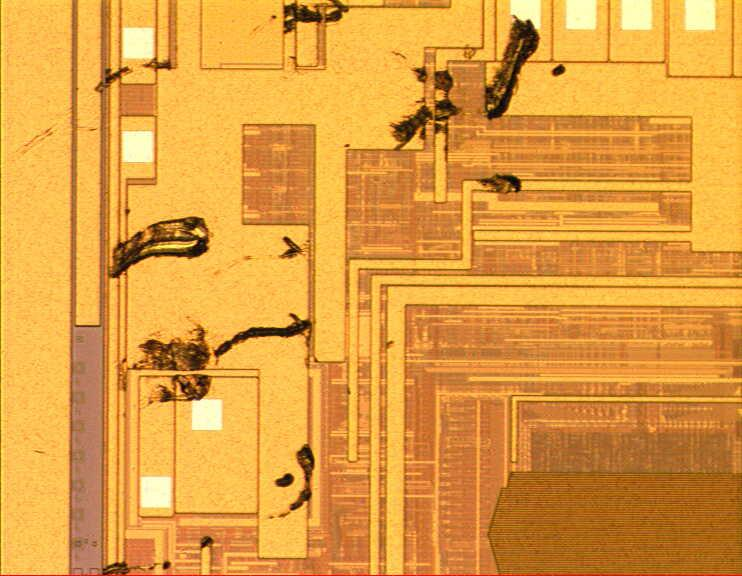SCRATCH: (1, 1, 555, 576)
